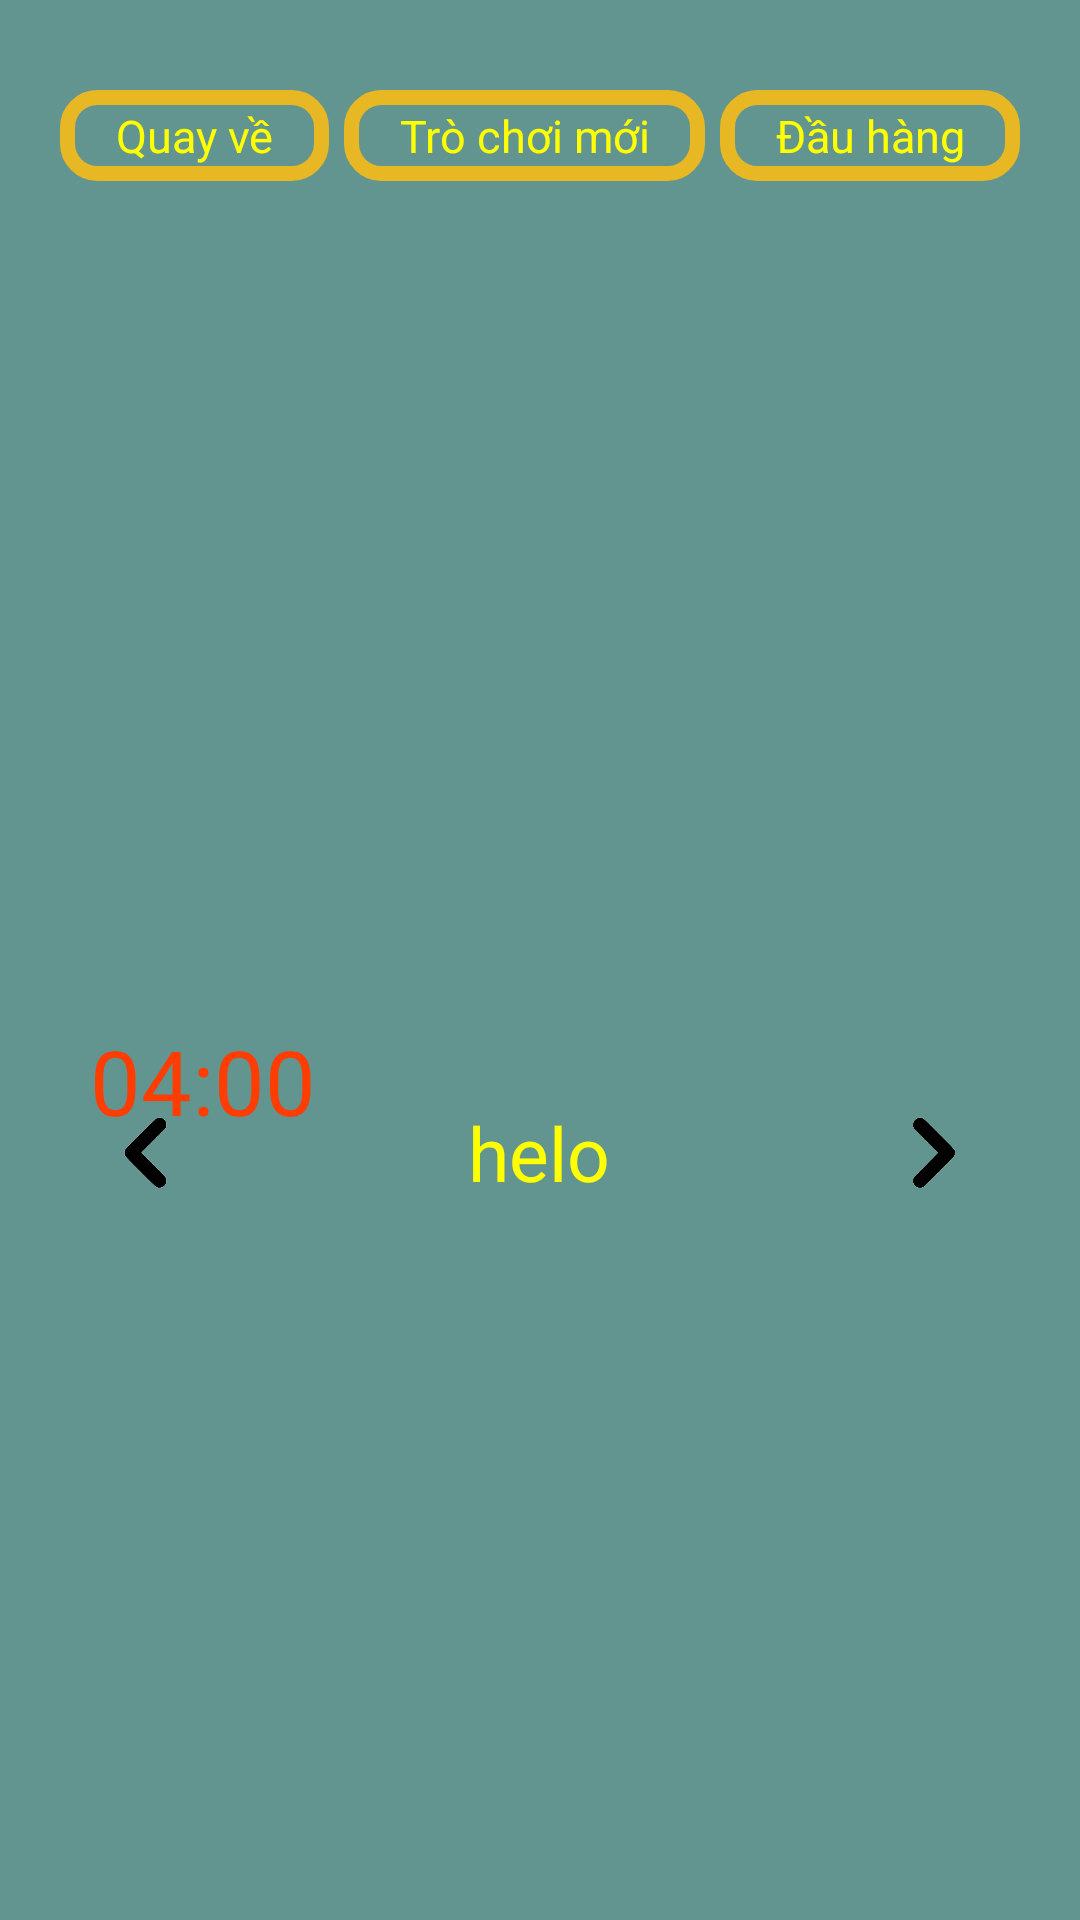

Where icons sit on this 1080 x 1920 app screen, as (x1, y1, x2, y2):
next date: (913, 1118, 955, 1188)
pre date: (124, 1108, 209, 1188)
